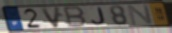2: (23, 8, 43, 29)
8: (109, 5, 130, 27)
B: (63, 6, 88, 29)
J: (90, 7, 107, 26)
N: (127, 4, 155, 26)
V: (39, 6, 63, 29)
